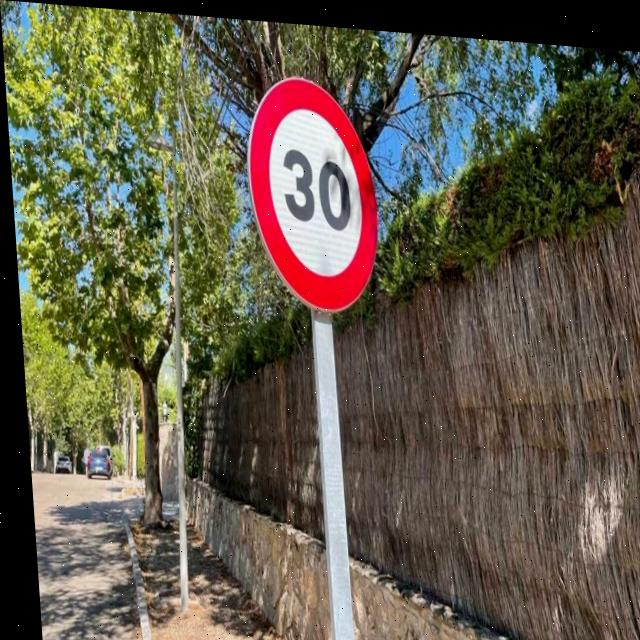Speed limit 30: (239, 66, 383, 315)
